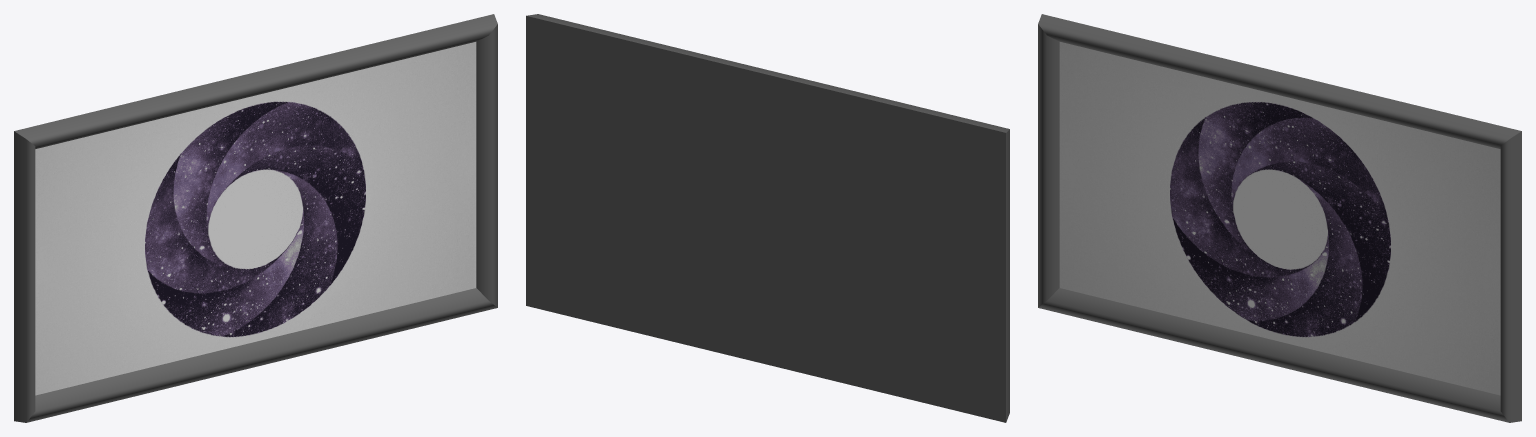
The model's file is picture_007.fbx.
3 views of the same model, side by side, from view 1: azimuth 30°, elevation 25°; view 2: azimuth 150°, elevation 25°; view 3: azimuth 330°, elevation 25° (orthographic).
Parts seen in each view (by area): view 1: picture_007; view 2: picture_007; view 3: picture_007.
Boxes of the visible parts, x1,y1,x2,y2 form: picture_007: (14, 14, 497, 422); picture_007: (526, 14, 1009, 422); picture_007: (1038, 14, 1521, 422).
Size of the model in its own units: 102 by 2.95 by 59.01.
